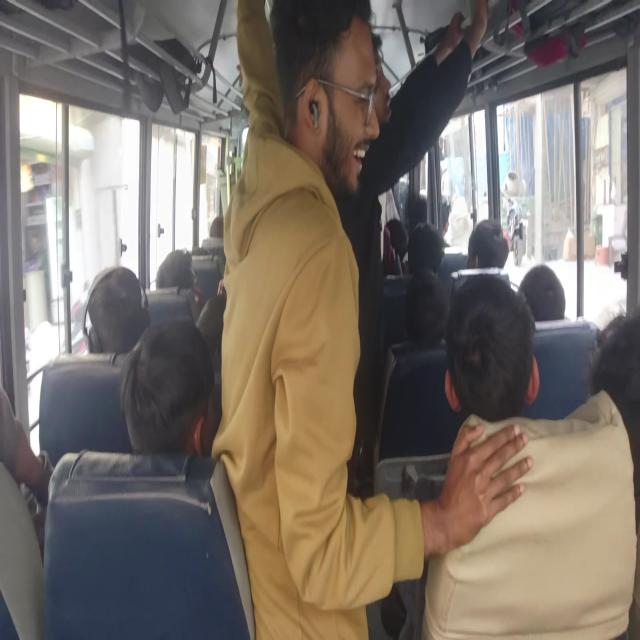person: (282, 7, 386, 148), (134, 340, 214, 481), (85, 252, 148, 372), (444, 295, 508, 408), (581, 320, 639, 439), (0, 373, 43, 500), (390, 276, 436, 346), (361, 45, 409, 111), (464, 214, 517, 273), (158, 249, 199, 313), (522, 266, 555, 324), (417, 183, 454, 234), (412, 233, 448, 276), (206, 222, 224, 246), (387, 227, 401, 249)
